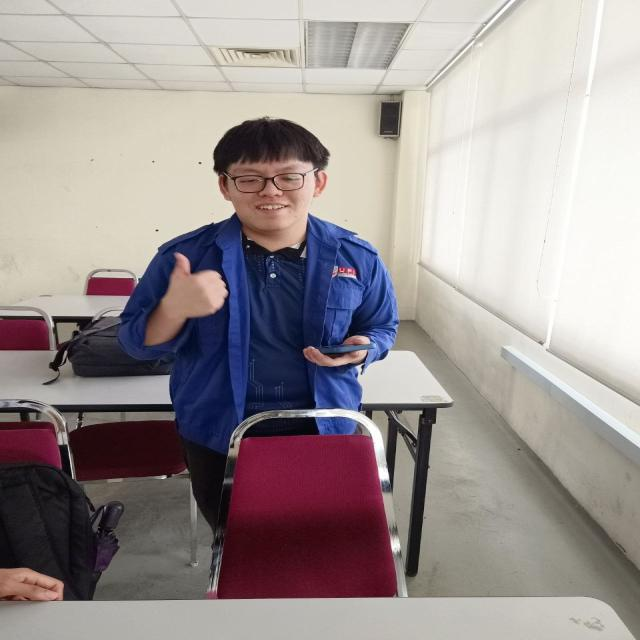person_with_labcoat: (119, 117, 398, 530)
